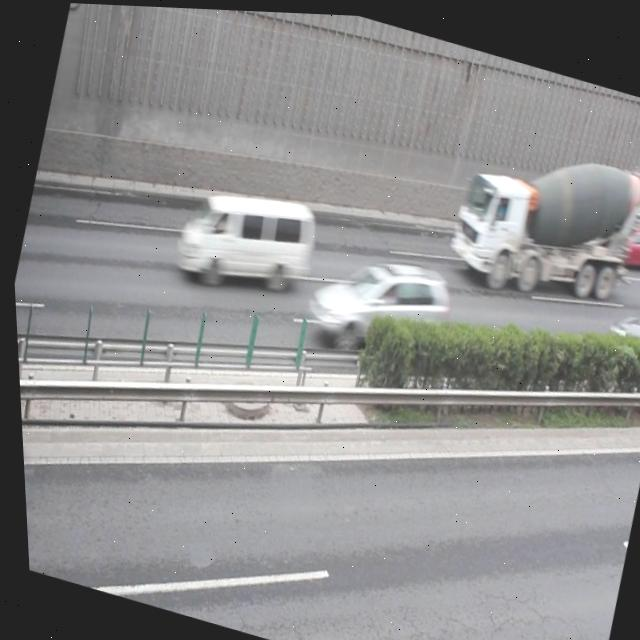bus: (437, 115, 640, 316)
car: (297, 236, 456, 371), (595, 280, 640, 368), (605, 212, 640, 268)
truck: (168, 170, 320, 300)
